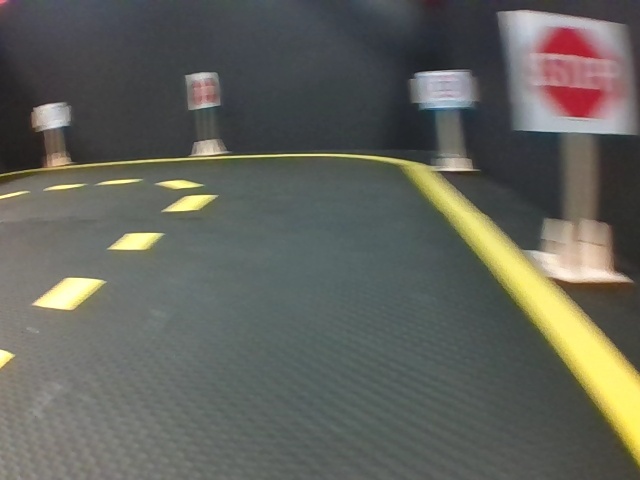30: (421, 72, 467, 104)
stop: (510, 8, 631, 132), (189, 73, 220, 111)
